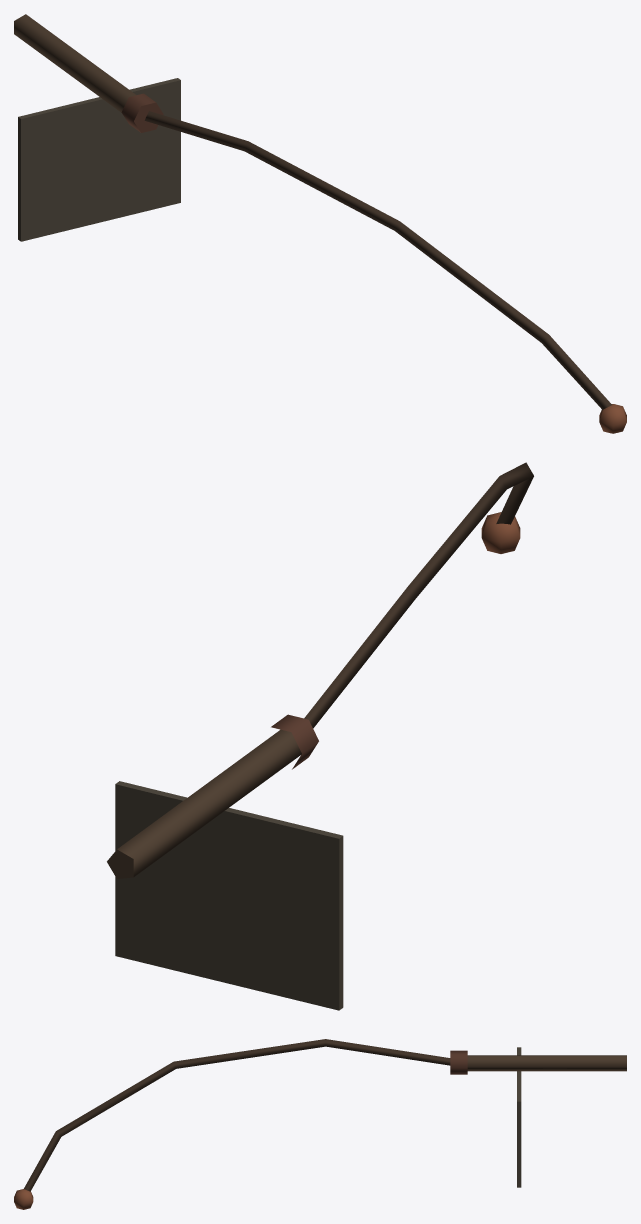
3 views of the same model, one above another, from view 1: azimuth 30°, elevation 25°; view 2: azimuth 150°, elevation 25°; view 3: azimuth 270°, elevation 25° (orthographic). The views are drawn at different scales.
Parts seen in each view (by area): view 1: raider_weapon_net_whip; view 2: raider_weapon_net_whip; view 3: raider_weapon_net_whip.
Part boxes in pixels (bbox=[...]): raider_weapon_net_whip: bbox=[14, 14, 626, 433]; raider_weapon_net_whip: bbox=[107, 462, 533, 1010]; raider_weapon_net_whip: bbox=[14, 1039, 626, 1209].
Bounding box in the file's own units: 0.476 × 0.3202 × 1.42.
